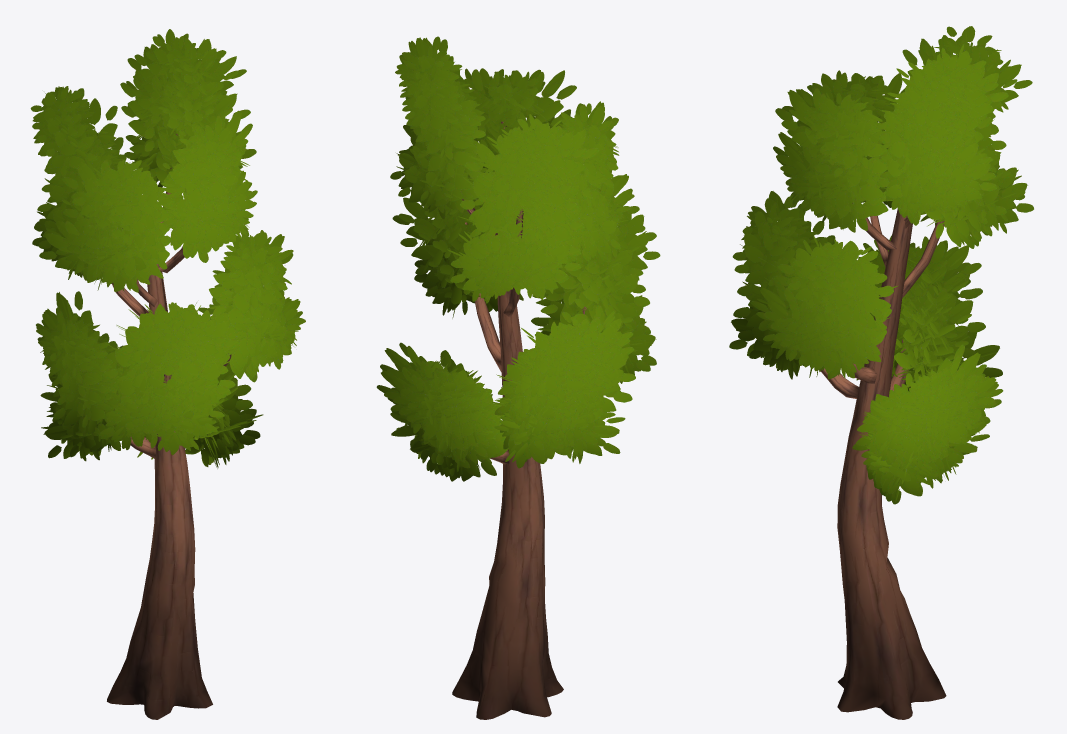
The model's file is arbre-feuillu.lod1.glb.
3 views of the same model, side by side, from view 1: azimuth 30°, elevation 25°; view 2: azimuth 150°, elevation 25°; view 3: azimuth 270°, elevation 25° (orthographic). The views are drawn at different scales.
Parts seen in each view (by area): view 1: CommonTree_3; view 2: CommonTree_3; view 3: CommonTree_3.
Part boxes in pixels (box(x1,y1,x2,y2)): CommonTree_3: box(30, 29, 305, 719); CommonTree_3: box(376, 36, 660, 719); CommonTree_3: box(729, 26, 1033, 719).
Bounding box in the file's own units: 4.06 × 9.43 × 4.24.
2 materials, 2 textured.
